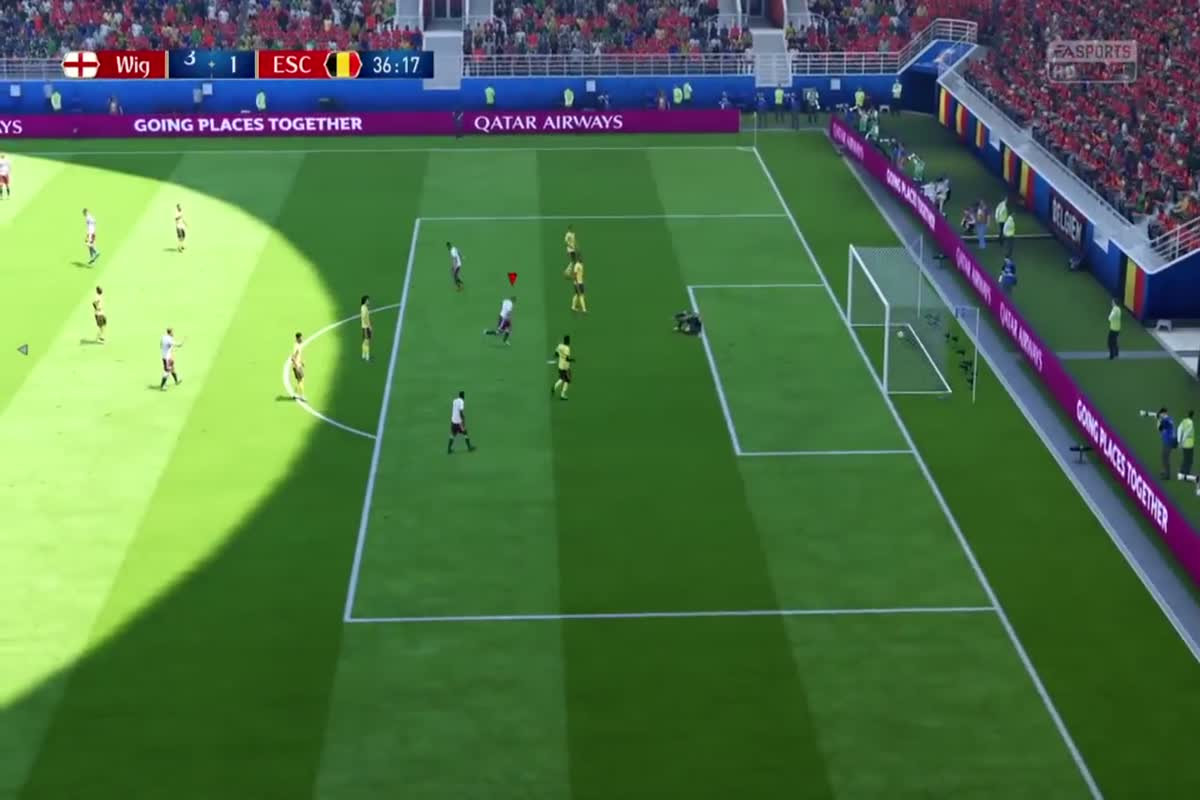ball: (893, 328, 908, 345)
